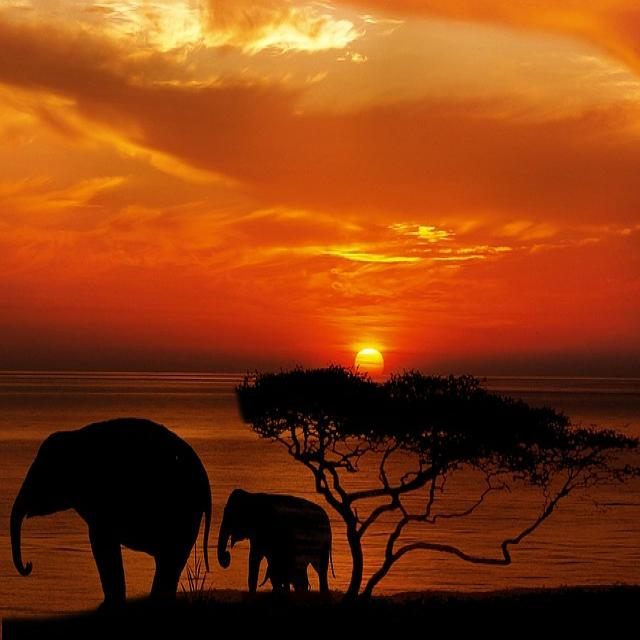elephant: (10, 419, 211, 607), (218, 489, 331, 592)
